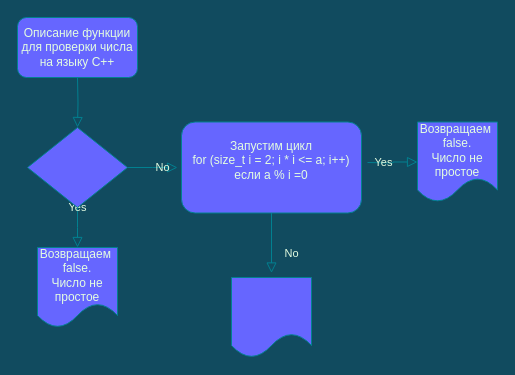
The diagram is 515 pixels wide and 375 high, and some of its shapes have lost their labels. The centre of each missing label's shape, as x and y in pixels:
"Введеное число < 2" belongs at point 77,167.
"Возвращаем True. Число простое" belongs at point 271,317.
